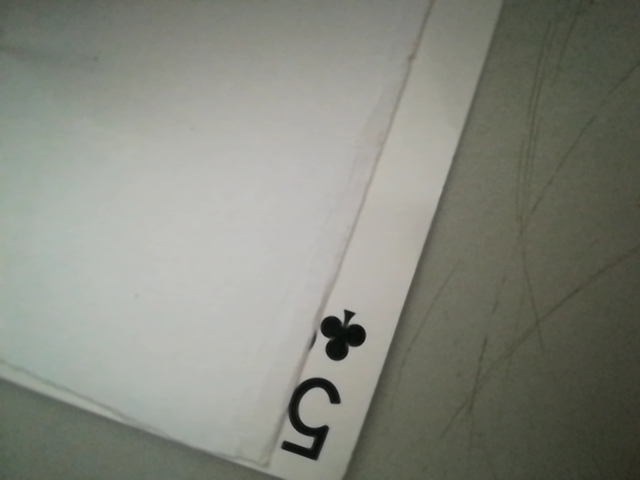mh 5: (271, 300, 378, 474)
